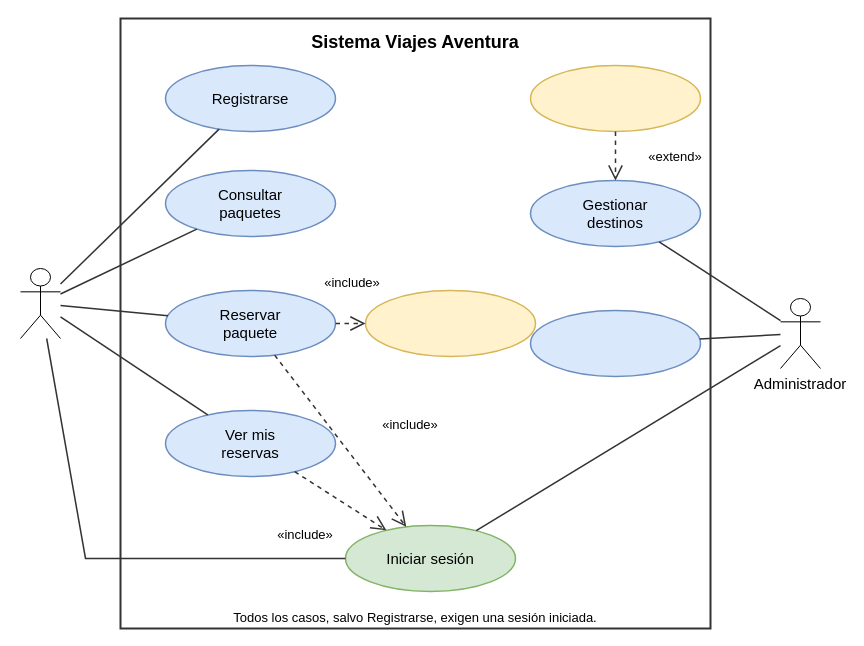
This 864x646 diagram has some shape labels left out. Each missing label, with the box of its shape:
Cliente: (20, 268, 60, 338)
Gestionar paquetes: (529, 309, 701, 377)
Retirar destino: (529, 64, 701, 132)
Validar fecha, cupo y personas: (364, 289, 536, 357)
